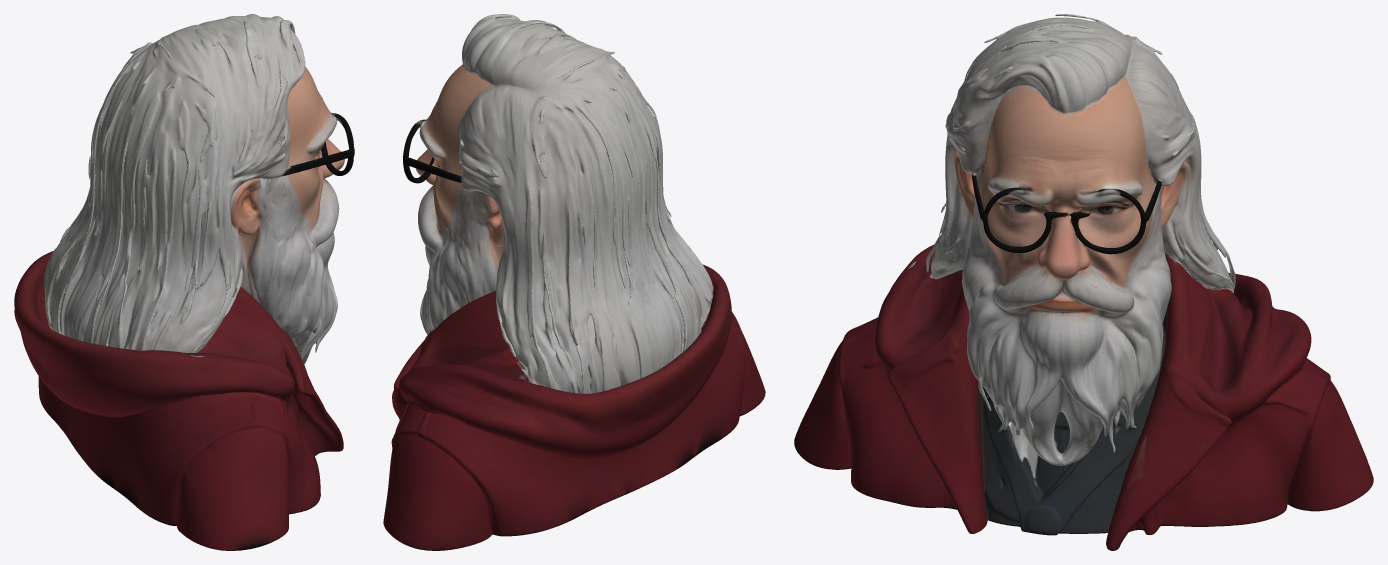
File: detailed_realistic_model_albusdumbledore_13.glb
3 views of the same model, side by side, from view 1: azimuth 30°, elevation 25°; view 2: azimuth 150°, elevation 25°; view 3: azimuth 270°, elevation 25° (orthographic). The views are drawn at different scales.
Visible parts, largest first — view 1: tripo_node_61c9fe7b-bb64-4130-a670-5282fd2e8a3b; view 2: tripo_node_61c9fe7b-bb64-4130-a670-5282fd2e8a3b; view 3: tripo_node_61c9fe7b-bb64-4130-a670-5282fd2e8a3b.
Part boxes in pixels (left/top/right/bottom): tripo_node_61c9fe7b-bb64-4130-a670-5282fd2e8a3b: left=14, top=14, right=354, bottom=550; tripo_node_61c9fe7b-bb64-4130-a670-5282fd2e8a3b: left=383, top=14, right=765, bottom=550; tripo_node_61c9fe7b-bb64-4130-a670-5282fd2e8a3b: left=794, top=14, right=1373, bottom=550.
Bounding box in the file's own units: 0.6492 × 0.8827 × 1.
Materials: 1 (1 with a texture image).
